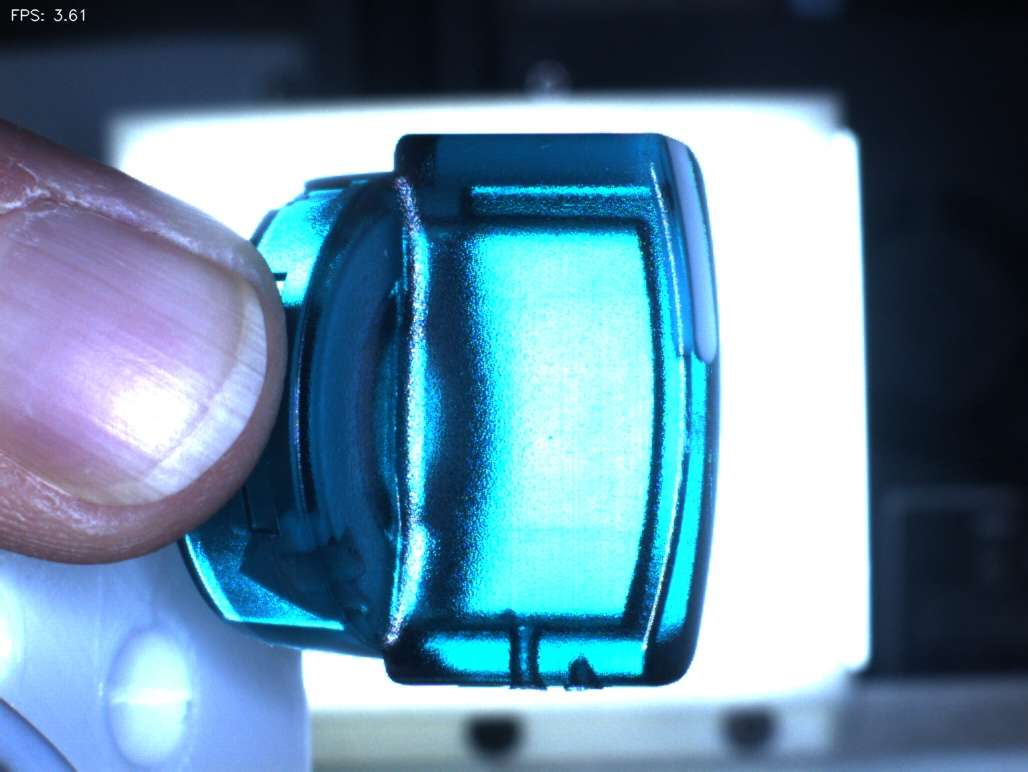Bulle: (539, 619, 621, 725)
